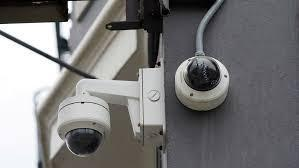maru: (54, 94, 113, 159), (173, 52, 232, 112)
